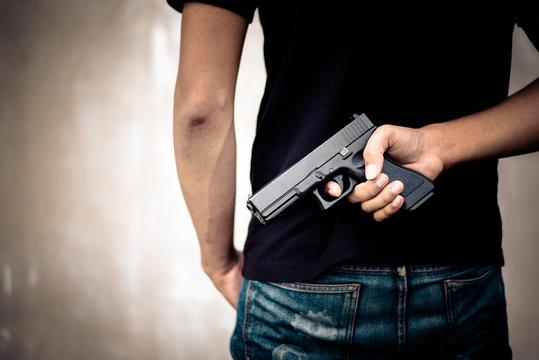weapon: (245, 112, 436, 225)
